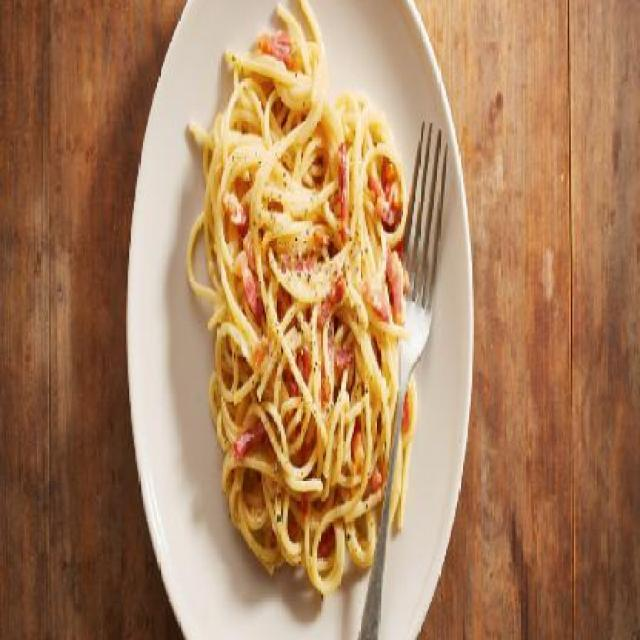Pasta with carbonara sauce: (163, 14, 494, 598)
